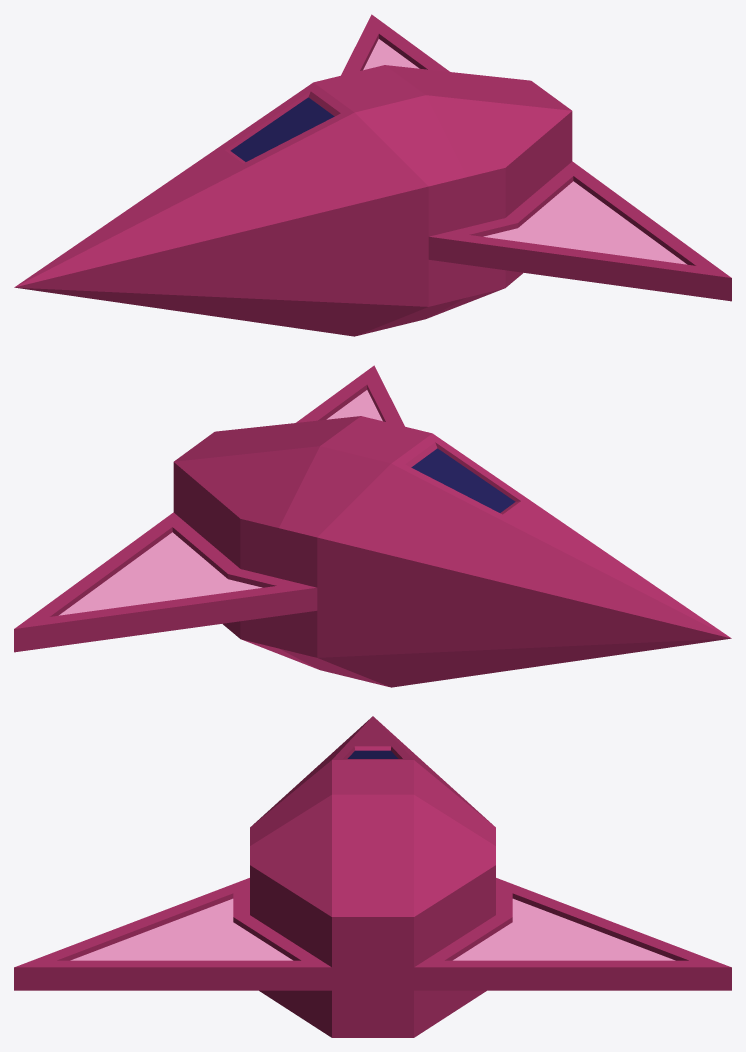
Rendered from Speeder.fbx.
3 renders of one model, top to bottom at view 1: azimuth 30°, elevation 25°; view 2: azimuth 150°, elevation 25°; view 3: azimuth 270°, elevation 25°, orthographic.
Visible parts, largest first — view 1: speeder; view 2: speeder; view 3: speeder.
Part boxes in pixels (left/top/right/bottom): speeder: left=14, top=14, right=731, bottom=336; speeder: left=14, top=365, right=731, bottom=687; speeder: left=14, top=716, right=731, bottom=1037.
Size of the model in its own units: 322 by 128 by 373.
